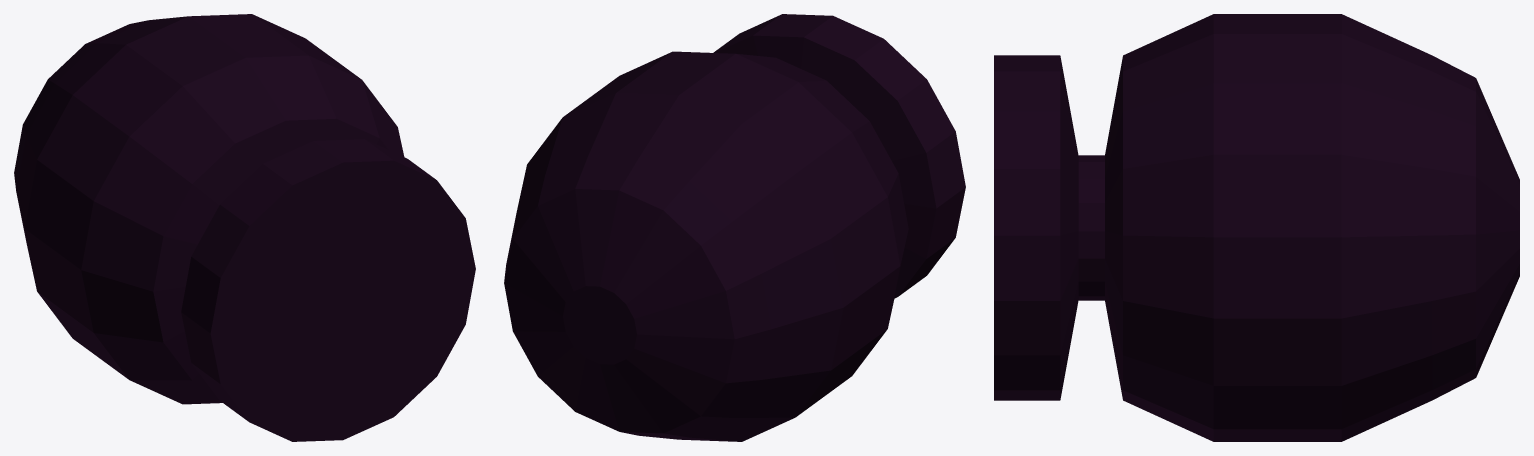
File: bomb.fbx
3 renders of one model, left to right at view 1: azimuth 30°, elevation 25°; view 2: azimuth 150°, elevation 25°; view 3: azimuth 270°, elevation 25°, orthographic. The views are drawn at different scales.
Visible parts, largest first — view 1: Bomb; view 2: Bomb; view 3: Bomb.
Boxes of the visible parts, <box> form: Bomb: <box>14,14,475,441</box>; Bomb: <box>504,14,965,441</box>; Bomb: <box>994,14,1519,441</box>.
Size of the model in its own units: 200 by 200 by 246.
